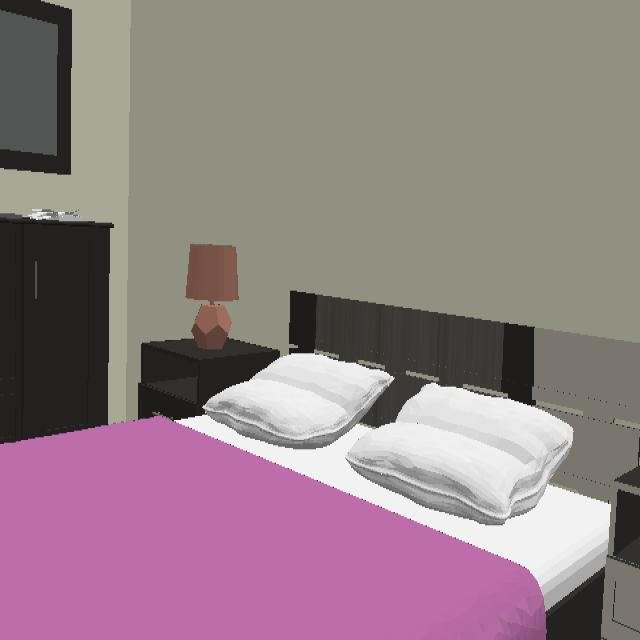bed: (0, 415, 610, 638)
book: (29, 208, 82, 221)
cabinet: (0, 216, 112, 442)
lamp: (186, 245, 239, 349)
nighttable: (138, 338, 280, 418), (601, 442, 640, 638)
pillow: (346, 385, 572, 525), (204, 353, 392, 447)
